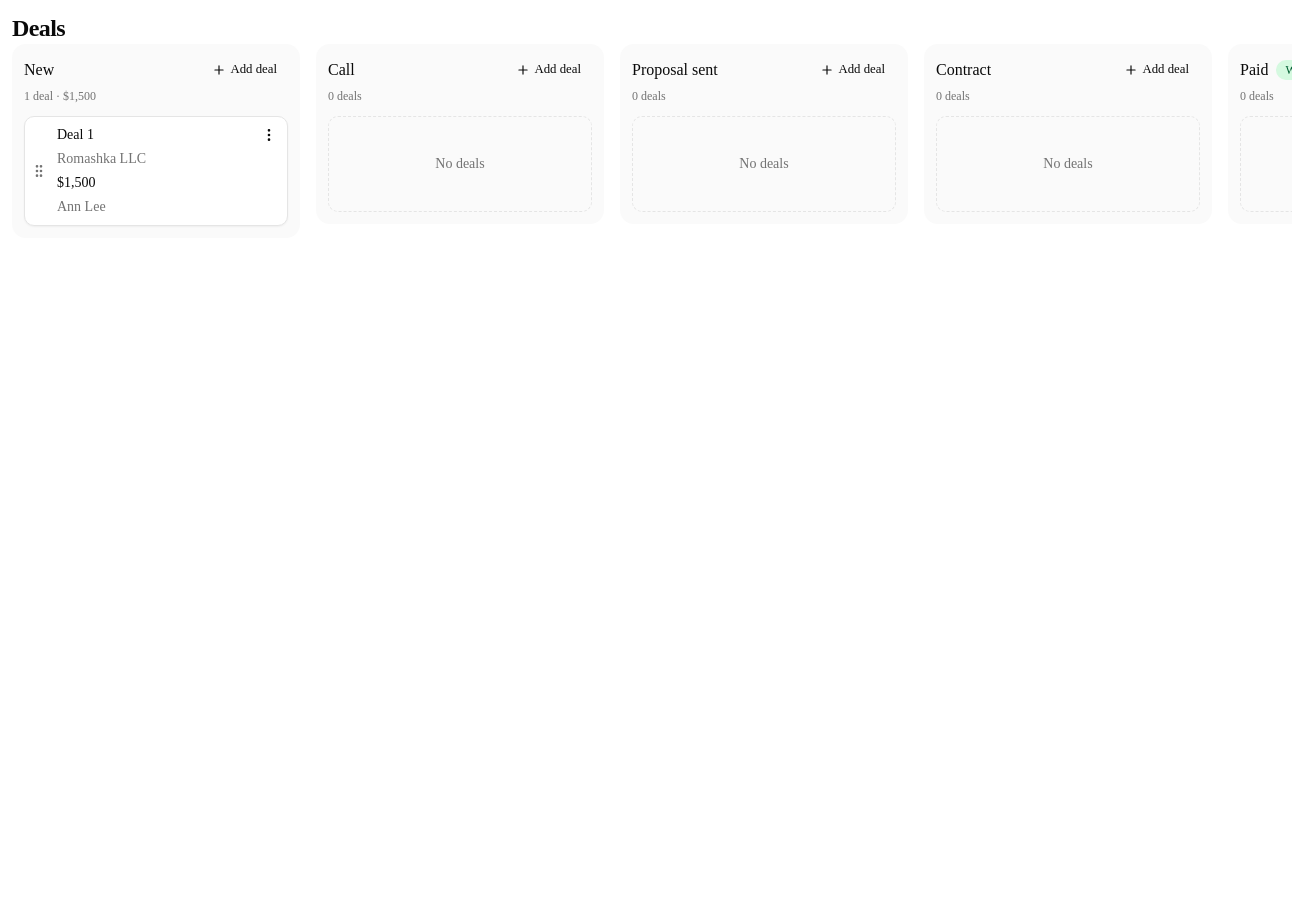
Test: DealBoard › move menu › should put the card back with focus, explain and refetch when the deal changed elsewhere
The width and height of the screenshot is (1304, 912).
Click the button named "Actions for Deal 1" at (269, 135), box [255, 121, 283, 149]
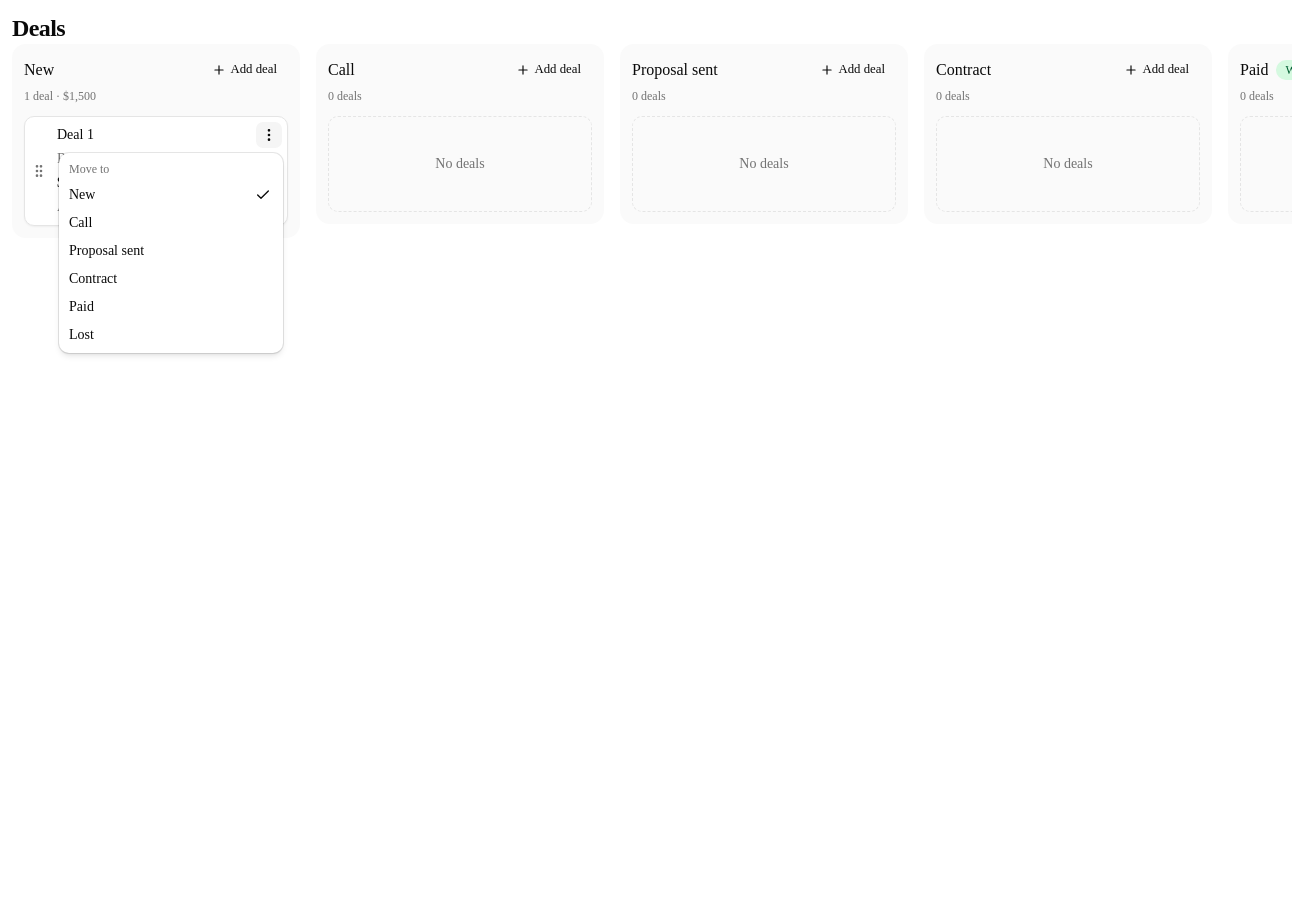
Click the menu item "Call" at (81, 222), box [69, 215, 92, 230]
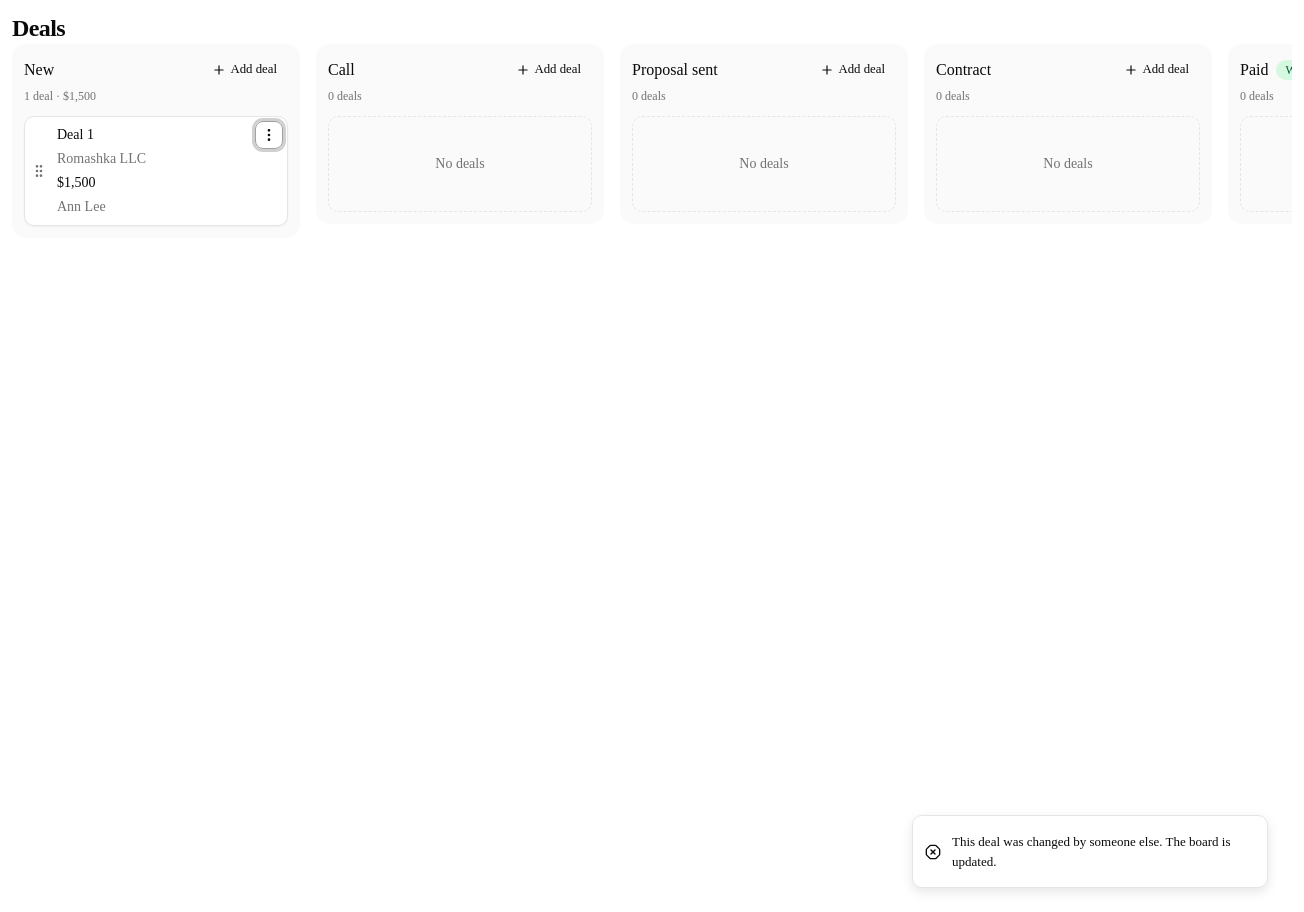
Expected: the text "This deal was changed by someone else. The board is updated." is shown, [952, 832, 1251, 871]
